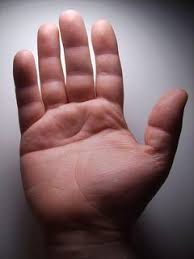palm: (28, 105, 153, 222)
